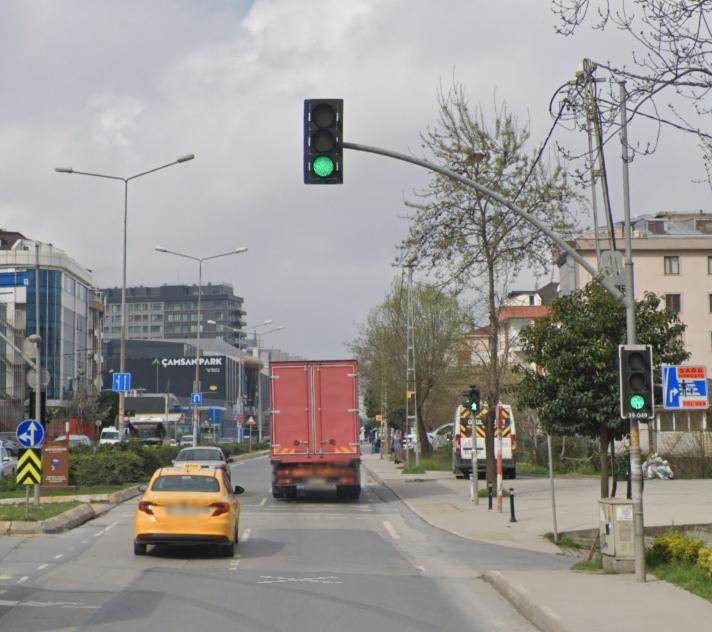greenlight: (304, 95, 345, 184), (621, 345, 655, 419)
